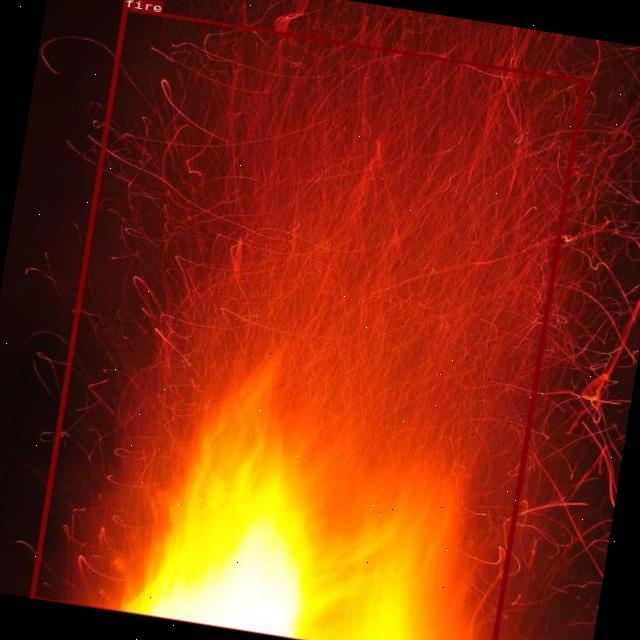fire: (28, 5, 585, 640)
